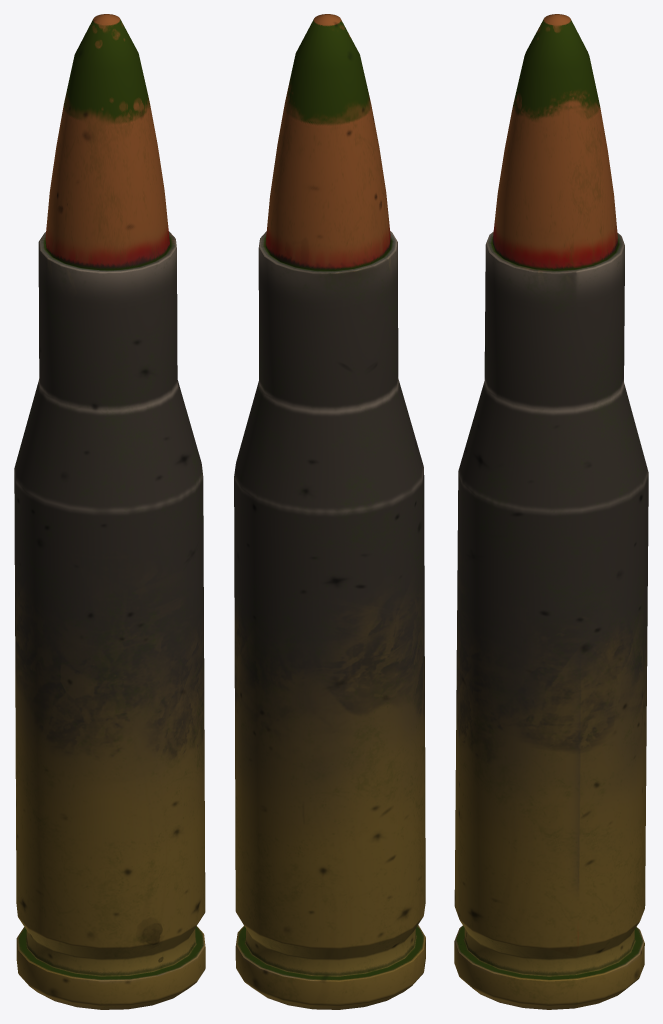
3 views of the same model, side by side, from view 1: azimuth 30°, elevation 25°; view 2: azimuth 150°, elevation 25°; view 3: azimuth 270°, elevation 25° (orthographic).
Parts seen in each view (by area): view 1: Object_4; view 2: Object_4; view 3: Object_4.
Part boxes in pixels (x1,y1,x2,y2): Object_4: (14, 14, 205, 1009); Object_4: (234, 14, 425, 1009); Object_4: (454, 14, 648, 1009).
Bounding box in the file's own units: 0.3303 × 1.84 × 0.3369.
Materials: 1 (1 with a texture image).
